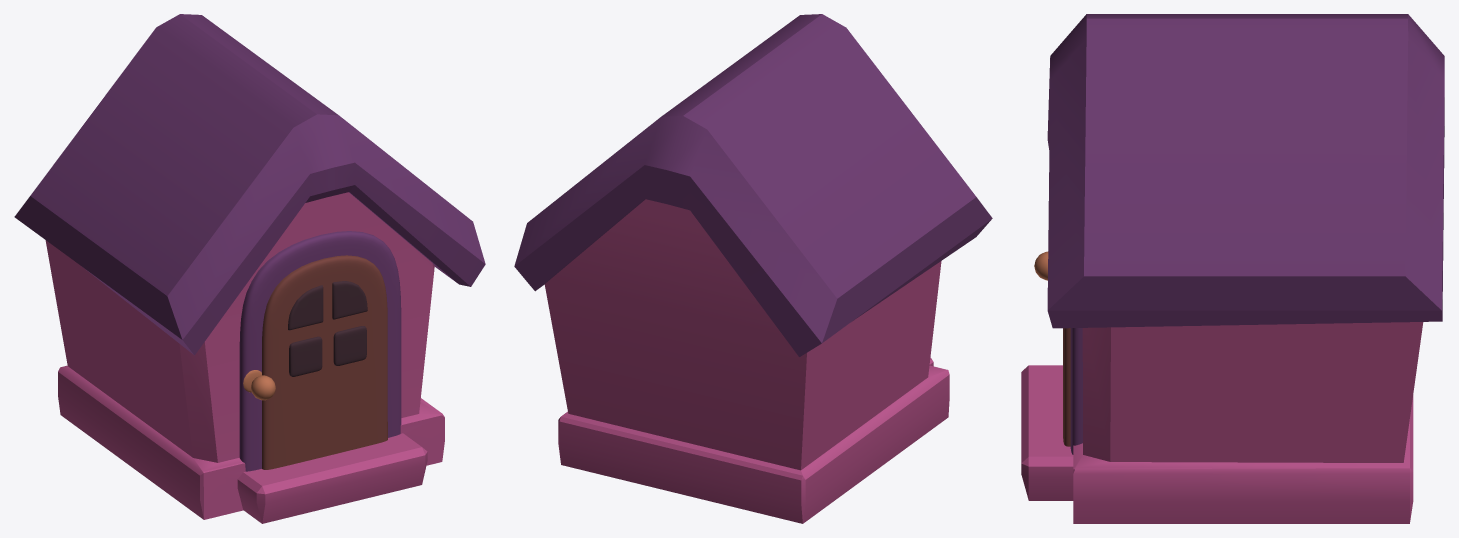
Rendered from birdhouse02.fbx.
3 renders of one model, left to right at view 1: azimuth 30°, elevation 25°; view 2: azimuth 150°, elevation 25°; view 3: azimuth 270°, elevation 25°, orthographic. The views are drawn at different scales.
Visible parts, largest first — view 1: House; view 2: House; view 3: House.
Boxes of the visible parts, bbox=[...] form: House: bbox=[14, 14, 485, 523]; House: bbox=[514, 14, 992, 523]; House: bbox=[1021, 14, 1444, 523].
Size of the model in its own units: 97.39 by 95.35 by 111.
